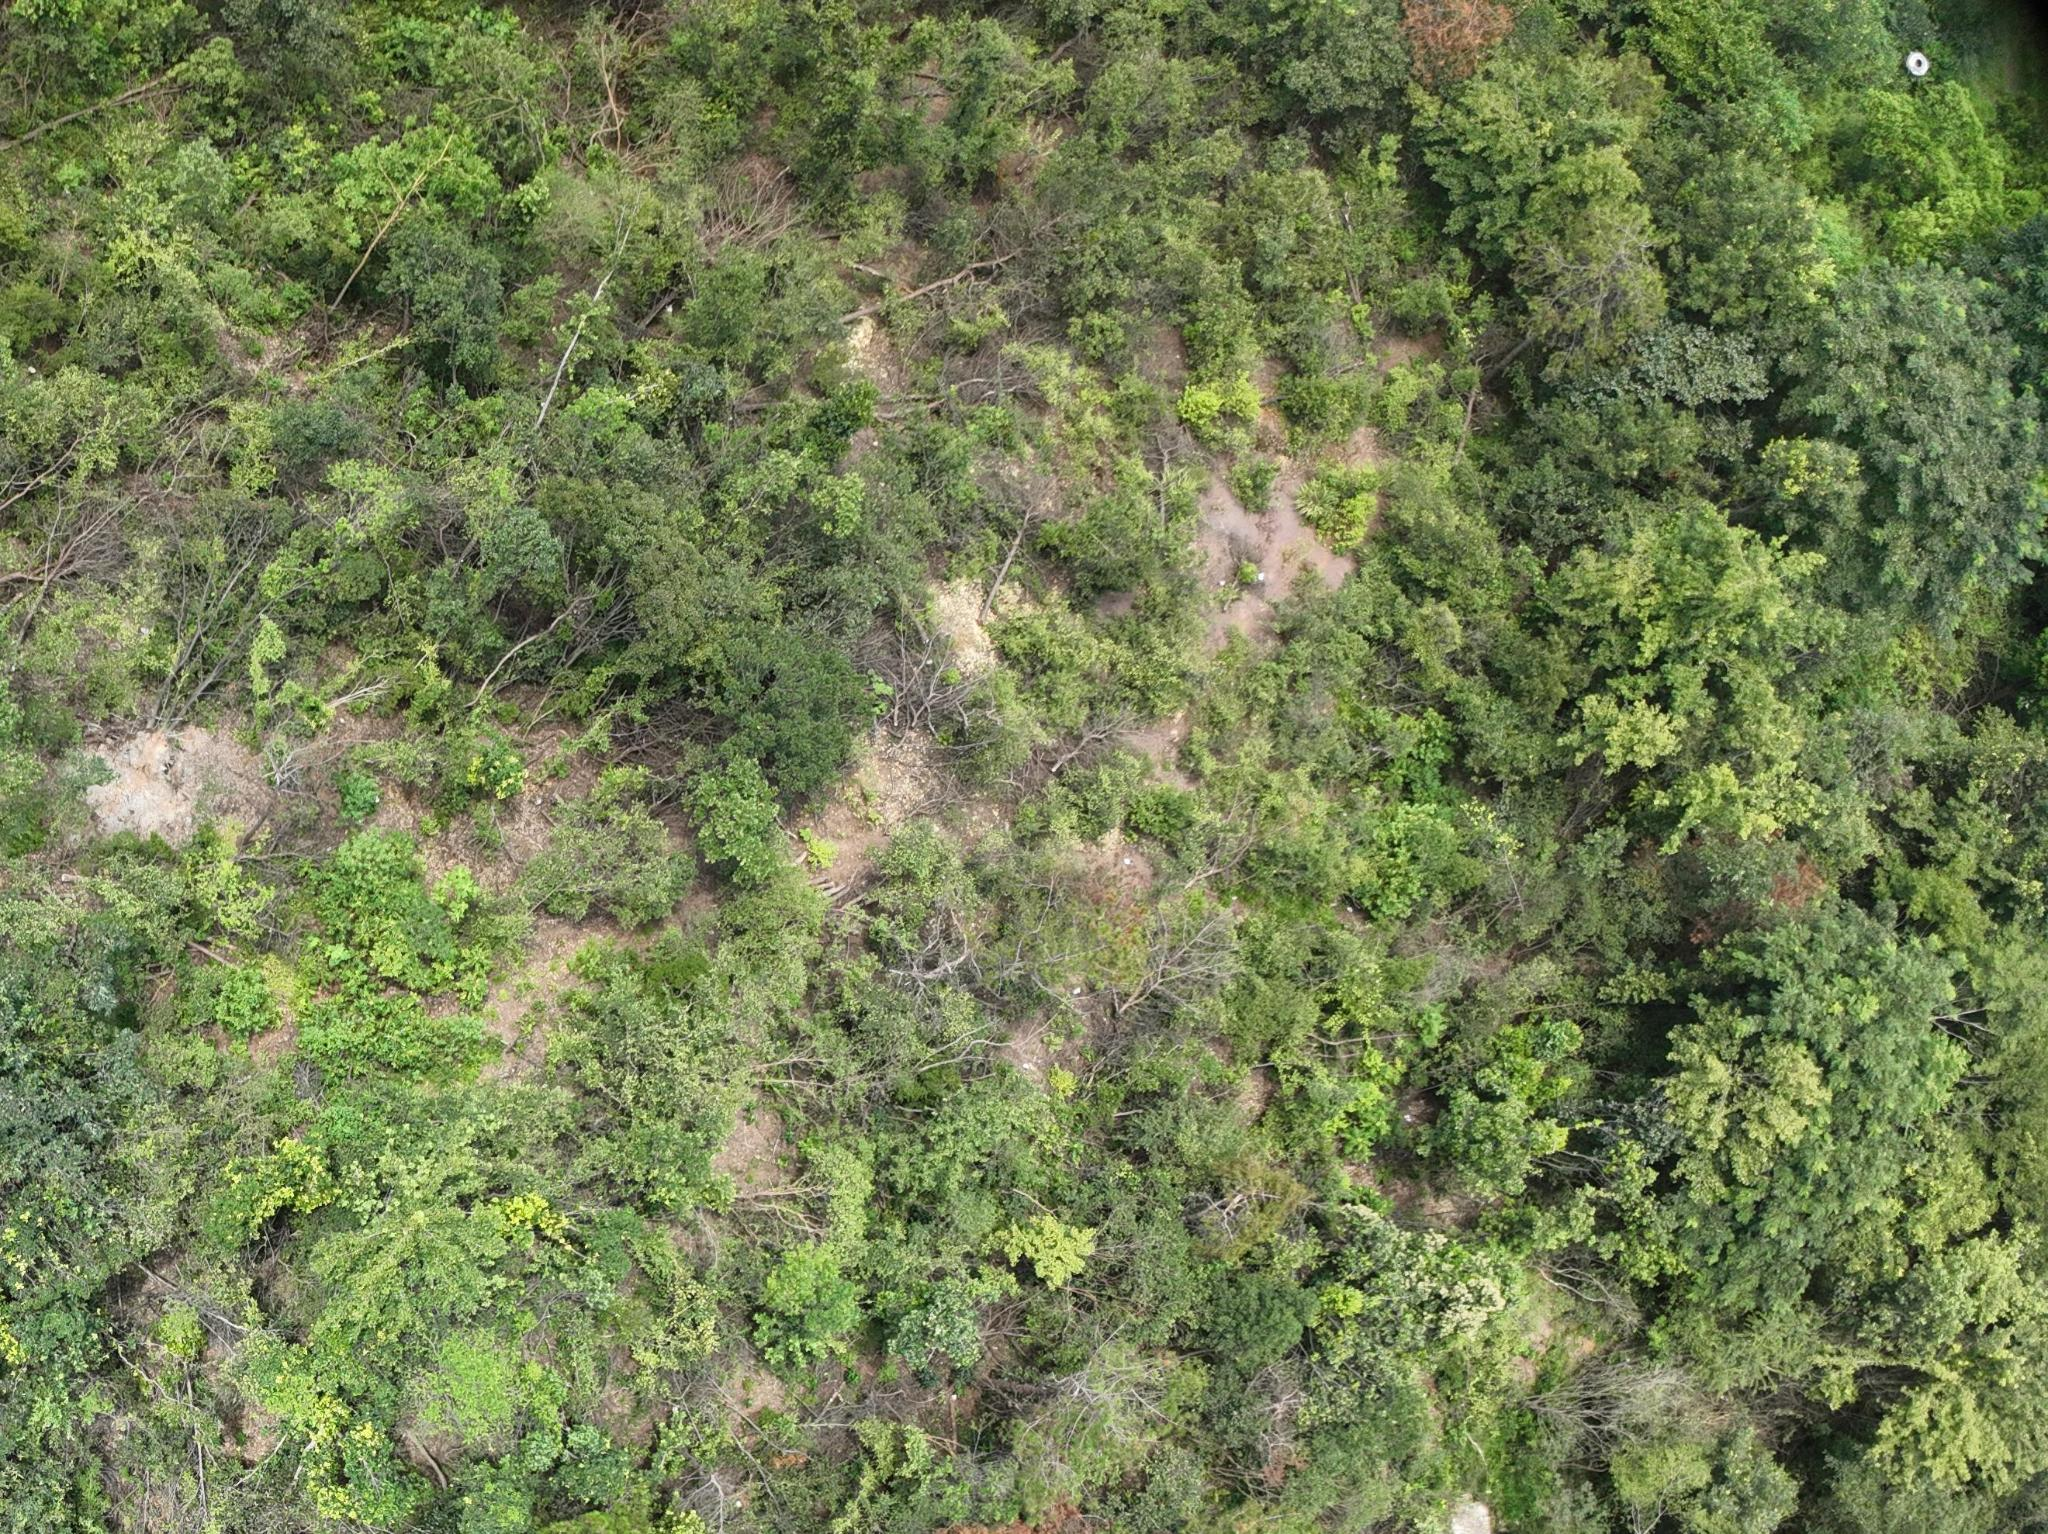heavy: (1391, 11, 1518, 74)
